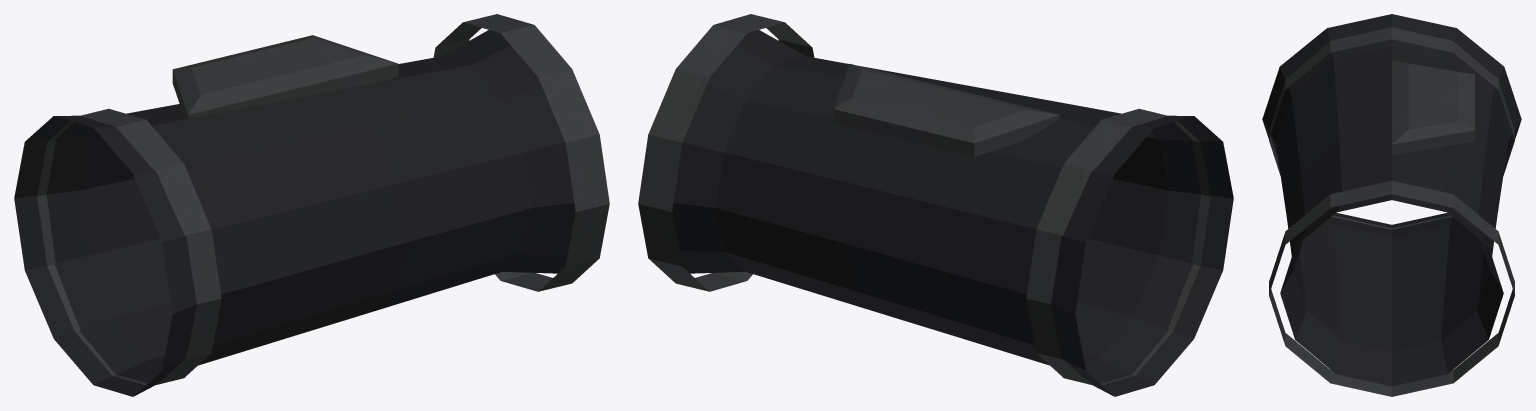
Rendered from eq_present_3_arm.glb.
The picture shows the model from 3 angles, left to right: view 1: azimuth 30°, elevation 25°; view 2: azimuth 150°, elevation 25°; view 3: azimuth 270°, elevation 25°; orthographic projection. The views are drawn at different scales.
Parts seen in each view (by area): view 1: eq_present_3_arm; view 2: eq_present_3_arm; view 3: eq_present_3_arm.
Boxes of the visible parts, x1,y1,x2,y2 form: eq_present_3_arm: [14, 14, 609, 396]; eq_present_3_arm: [638, 14, 1233, 396]; eq_present_3_arm: [1262, 14, 1521, 396].
Size of the model in its own units: 0.2516 by 0.1404 by 0.1566.
2 materials, 1 textured.
